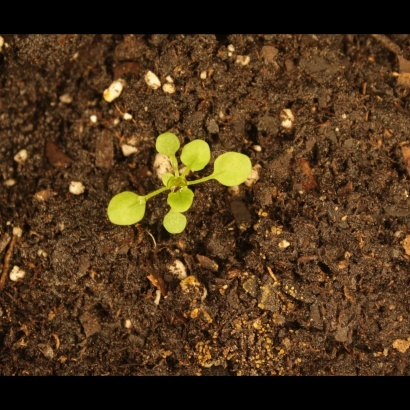leaf: (210, 149, 255, 190), (109, 187, 150, 230), (148, 130, 182, 164), (158, 205, 191, 240), (181, 136, 210, 172), (161, 188, 199, 215), (155, 163, 183, 190)
